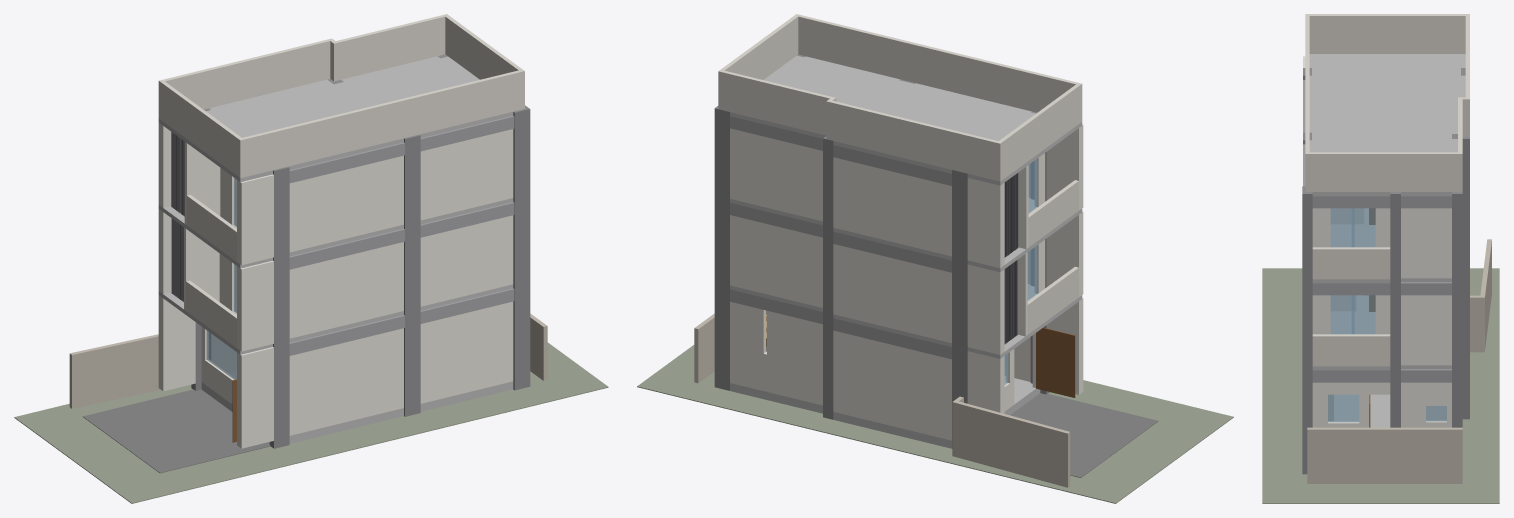
3 renders of one model, left to right at view 1: azimuth 30°, elevation 25°; view 2: azimuth 150°, elevation 25°; view 3: azimuth 270°, elevation 25°, orthographic.
Parts seen in each view (by area): view 1: RF_parapet, 1F_wall, 3F_wall, 2F_wall, GL_ground, RF_slab, GL_paving, GL_fence, 1F_column, 3F_column, 2F_column, 2F_beam (+10 smaller); view 2: RF_parapet, 1F_wall, 2F_wall, 3F_wall, GL_ground, RF_slab, GL_fence, GL_paving, 3F_column, 2F_column, 1F_column, 2F_beam (+10 smaller); view 3: GL_ground, RF_slab, RF_parapet, GL_fence, 3F_wall, 2F_wall, 1F_wall, 3F_column, 2F_column, 1F_column, 2F_parapet, 3F_parapet (+9 smaller).
Boxes of the visible parts, x1,y1,x2,y2 form: RF_parapet: (158, 14, 524, 177); 1F_wall: (158, 295, 513, 448); 3F_wall: (158, 123, 513, 265); 2F_wall: (158, 209, 513, 351); GL_ground: (14, 342, 608, 503); RF_slab: (158, 56, 513, 182); GL_paving: (82, 389, 270, 473); GL_fence: (69, 313, 547, 408); 1F_column: (191, 281, 530, 448); 3F_column: (204, 54, 530, 257); 2F_column: (273, 195, 530, 343); 2F_beam: (289, 288, 514, 355); RF_parapet: (718, 14, 1082, 181); 1F_wall: (730, 298, 1083, 440); 2F_wall: (730, 211, 1083, 354); 3F_wall: (730, 124, 1083, 268); GL_ground: (637, 345, 1233, 503); RF_slab: (730, 55, 1082, 185); GL_fence: (694, 313, 1070, 487); GL_paving: (1010, 393, 1158, 477); 3F_column: (714, 54, 1046, 260); 2F_column: (714, 195, 1046, 346); 1F_column: (714, 282, 1049, 448); 2F_beam: (730, 289, 951, 359); GL_ground: (1262, 268, 1499, 503); RF_slab: (1309, 54, 1465, 196); RF_parapet: (1305, 14, 1469, 191); GL_fence: (1307, 239, 1491, 483); 3F_wall: (1303, 56, 1451, 278); 2F_wall: (1312, 295, 1451, 365); 1F_wall: (1312, 382, 1451, 427); 3F_column: (1302, 68, 1469, 280); 2F_column: (1302, 226, 1469, 367); 1F_column: (1302, 313, 1469, 474); 2F_parapet: (1312, 334, 1390, 366); 3F_parapet: (1312, 247, 1390, 279).
Size of the model in its own units: 18.5 by 11.73 by 7.9.
